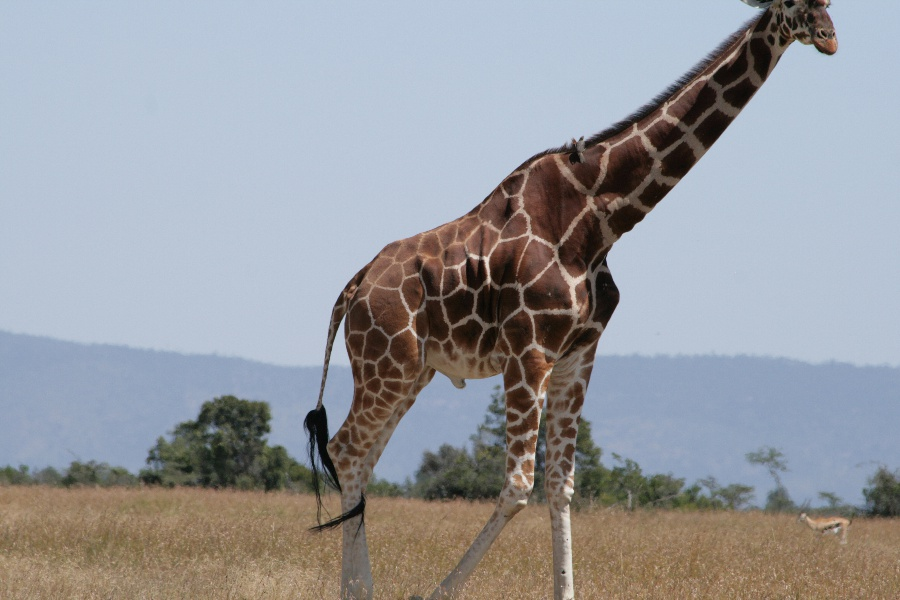giraffe: (298, 0, 838, 598)
